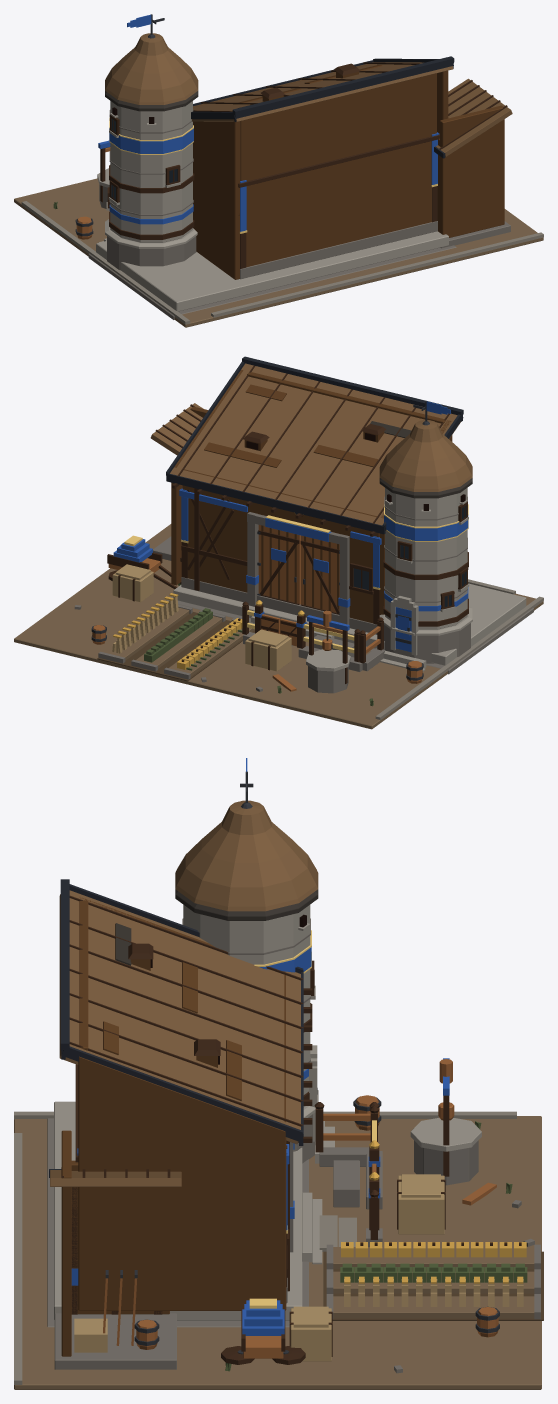
The picture shows the model from 3 angles, top to bottom: view 1: azimuth 30°, elevation 25°; view 2: azimuth 150°, elevation 25°; view 3: azimuth 270°, elevation 25°; orthographic projection. The views are drawn at different scales.
Visible parts, largest first — view 1: FM-主体, FM-team; view 2: FM-主体, FM-team, FM-team_trim, FM-自发光; view 3: FM-主体, FM-team.
Part boxes in pixels (<box>): FM-主体: <box>14,14,543,327</box>; FM-team: <box>98,14,439,231</box>; FM-主体: <box>14,356,543,729</box>; FM-team: <box>113,401,468,652</box>; FM-team_trim: <box>124,504,468,653</box>; FM-自发光: <box>246,433,466,607</box>; FM-主体: <box>14,771,543,1389</box>; FM-team: <box>71,758,449,1335</box>.
Bounding box in the file's own units: 15.35 × 10.11 × 12.75.
Materials: 4 (2 with a texture image).
